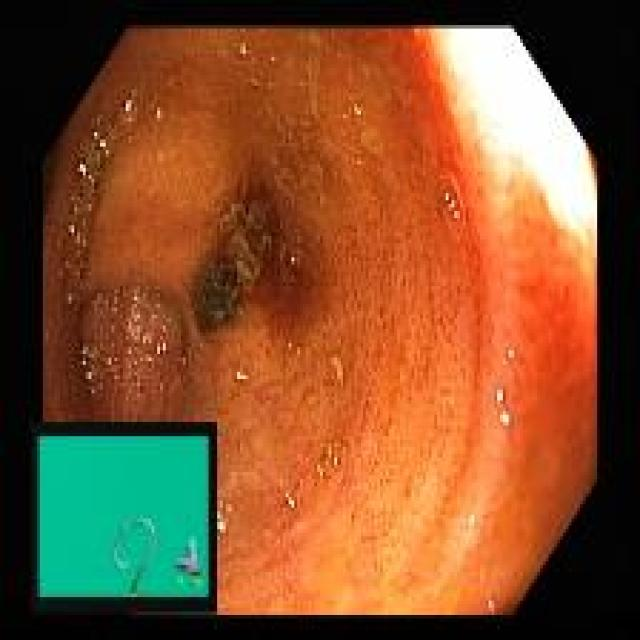ulcerative-colitis: (45, 28, 596, 615)
